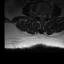CCS_normal: (41, 12, 43, 21)
LFS_normal: (45, 12, 48, 19)
LLS_normal: (43, 13, 45, 20)
RFS_normal: (37, 11, 39, 18)
RLS_normal: (39, 12, 41, 20)
